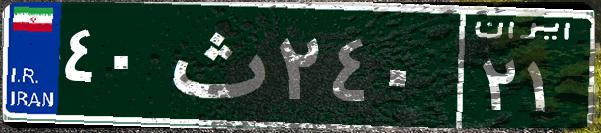0: (385, 28, 445, 110), (110, 28, 158, 105)
1: (525, 38, 570, 115)
2: (273, 28, 330, 110), (475, 38, 525, 113)
4: (330, 28, 385, 110), (57, 26, 110, 107)
ث: (158, 15, 273, 115)
